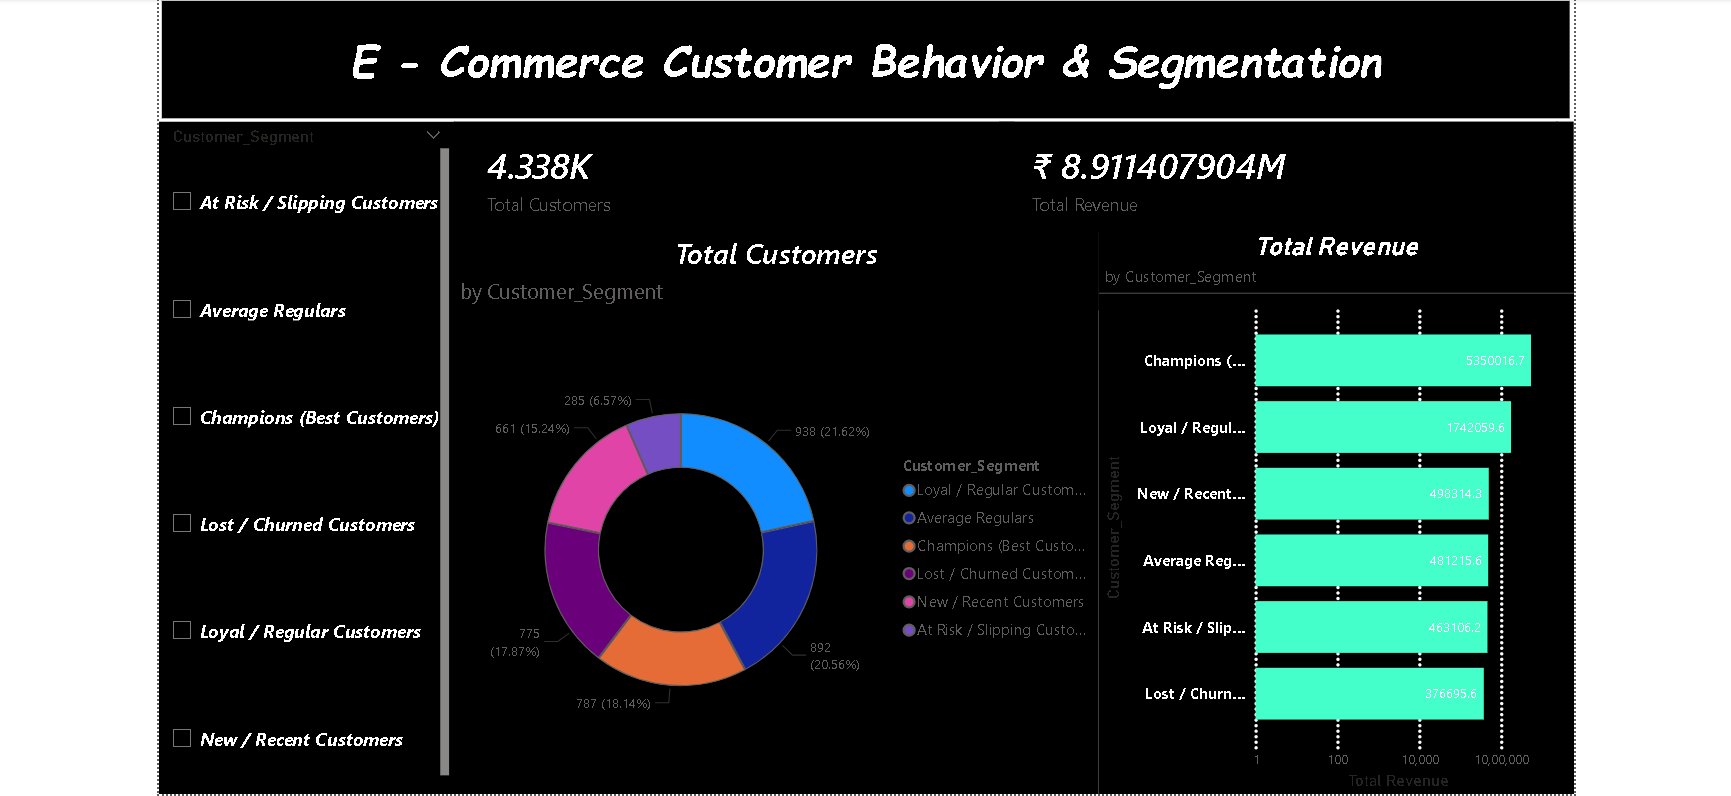

What the dashboard file says about the page in this screenshot:
{"tool":"powerbi","page":{"name":"Page 1","canvas":[1280,720],"ordinal":0},"visuals":[{"type":"donutChart","fields":{"Y":["online_retail.Total Customers"],"Category":["online_retail.Customer_Segment"]},"box":[267.1,211.4,582.9,508.6],"z":0},{"type":"slicer","fields":{"Values":["online_retail.Customer_Segment"]},"box":[0,111.4,267.1,608.6],"z":1000},{"type":"clusteredBarChart","fields":{"Category":["online_retail.Customer_Segment"],"Y":["online_retail.Total Revenue"]},"box":[850,211.4,430,508.6],"z":2000},{"type":"cardVisual","fields":{"Data":["online_retail.Total Customers","online_retail.Total Revenue"]},"box":[267.1,111.4,1012.9,100],"z":3000},{"type":"shape","box":[267.1,111.4,507.1,100],"z":4000},{"type":"shape","box":[760,111.4,505.7,100],"z":5000},{"type":"shape","box":[1264.3,111.4,14.3,132.9],"z":5001},{"type":"shape","box":[0,0,1278.6,111.4],"z":5002}]}

Visuals, with their boxes on the page's 1280x720 design canvas (x1, y1, x2, y2). These are canvas units, not pixel positions in the 1731x796 screenshot, which may show the page scaled, cropped or inside an application window:
donutChart - online_retail.Total Customers x online_retail.Customer_Segment: rect(267, 211, 850, 720)
slicer - online_retail.Customer_Segment: rect(0, 111, 267, 720)
clusteredBarChart - online_retail.Customer_Segment x online_retail.Total Revenue: rect(850, 211, 1280, 720)
cardVisual - online_retail.Total Customers x online_retail.Total Revenue: rect(267, 111, 1280, 211)
shape: rect(267, 111, 774, 211)
shape: rect(760, 111, 1266, 211)
shape: rect(1264, 111, 1279, 244)
shape: rect(0, 0, 1279, 111)
